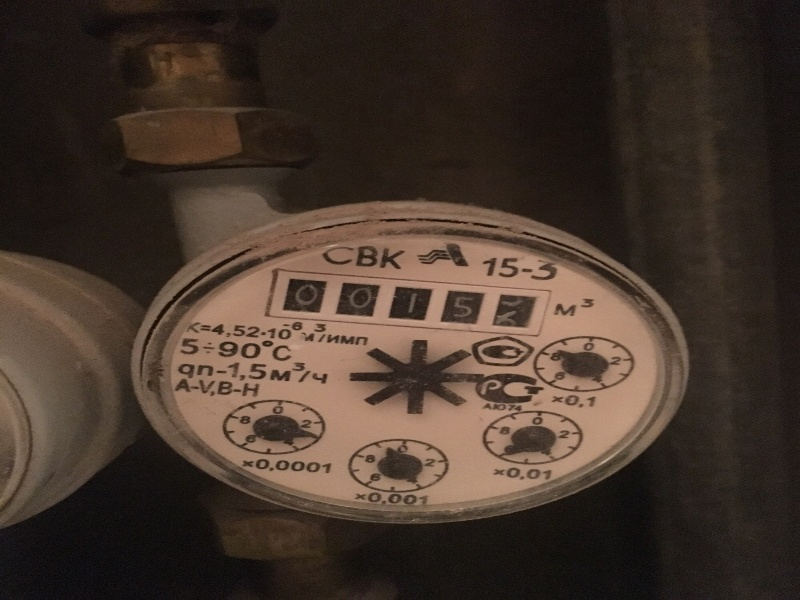dial: (277, 281, 529, 333)
